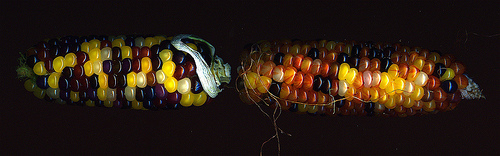corn: (237, 36, 486, 118), (11, 32, 230, 116)
